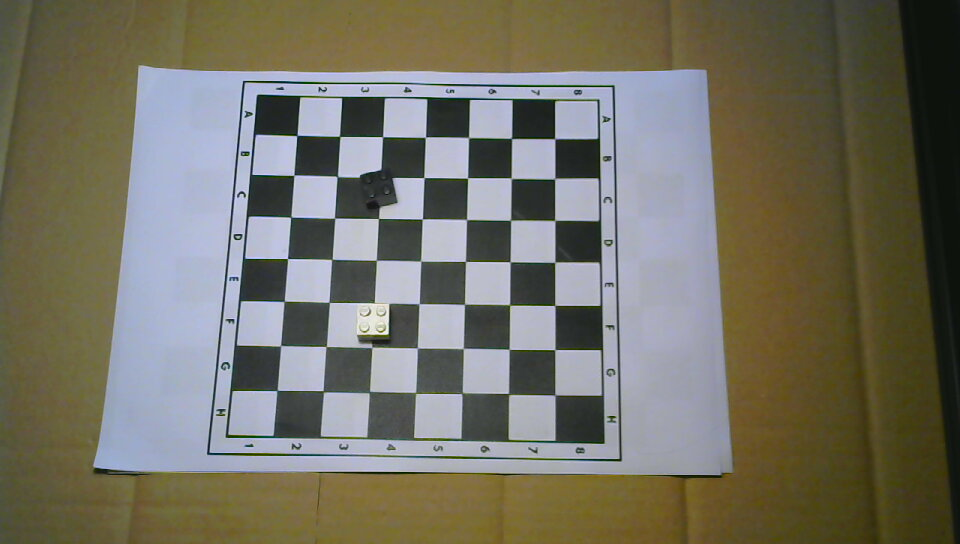bp: (357, 168, 399, 211)
wp: (355, 302, 391, 342)
